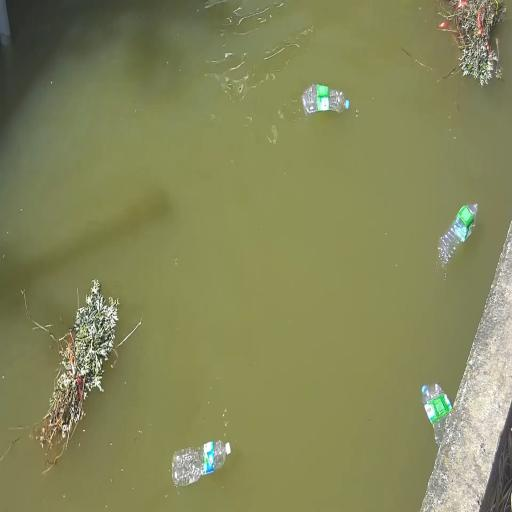plastic: (172, 441, 230, 486), (438, 204, 477, 265), (422, 384, 451, 445), (302, 84, 349, 115), (226, 442, 230, 454), (345, 100, 349, 109)
twig: (33, 279, 119, 451), (438, 0, 506, 86)
